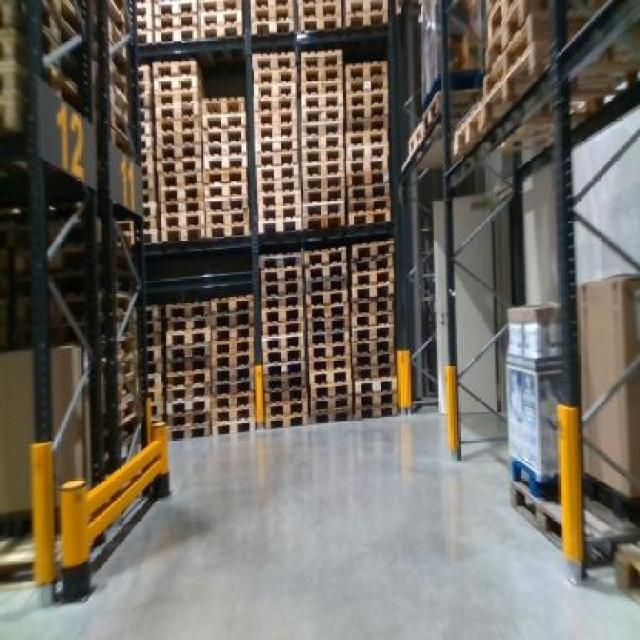pallet: (251, 52, 394, 217), (261, 285, 390, 447), (134, 57, 250, 230), (156, 285, 252, 441), (136, 0, 388, 35), (258, 245, 390, 284)
